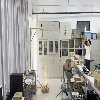fire: (43, 60, 48, 88)
